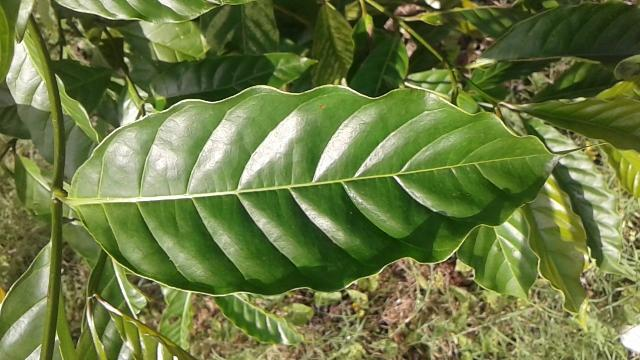healthy: (66, 84, 570, 296)
